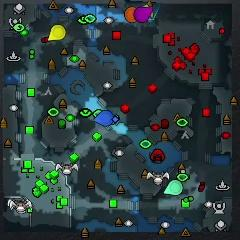p1: (93, 110, 114, 127)
p2: (163, 181, 182, 195)
p3: (135, 7, 153, 24)
p4: (49, 25, 65, 41)
p5: (125, 7, 138, 23)
x2: (142, 4, 153, 19)
